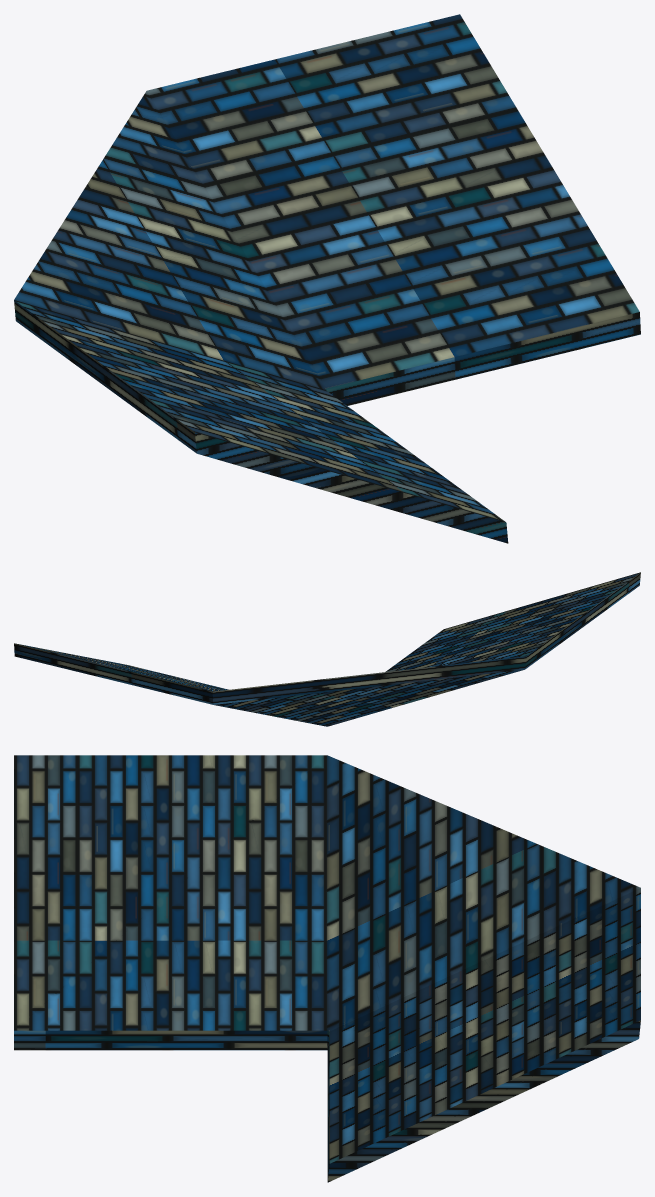
File: byzantine blue roof corner.glb
3 views of the same model, one above another, from view 1: azimuth 30°, elevation 25°; view 2: azimuth 150°, elevation 25°; view 3: azimuth 270°, elevation 25° (orthographic). The views are drawn at different scales.
Parts seen in each view (by area): view 1: Preview_Byzantine_Blue_corner; view 2: Preview_Byzantine_Blue_corner; view 3: Preview_Byzantine_Blue_corner.
Part boxes in pixels (box(x1,y1,x2,y2)): Preview_Byzantine_Blue_corner: box(14, 14, 640, 543); Preview_Byzantine_Blue_corner: box(14, 572, 640, 726); Preview_Byzantine_Blue_corner: box(14, 755, 640, 1182).
Bounding box in the file's own units: 2 × 0.5726 × 2.
1 material, 1 textured.
